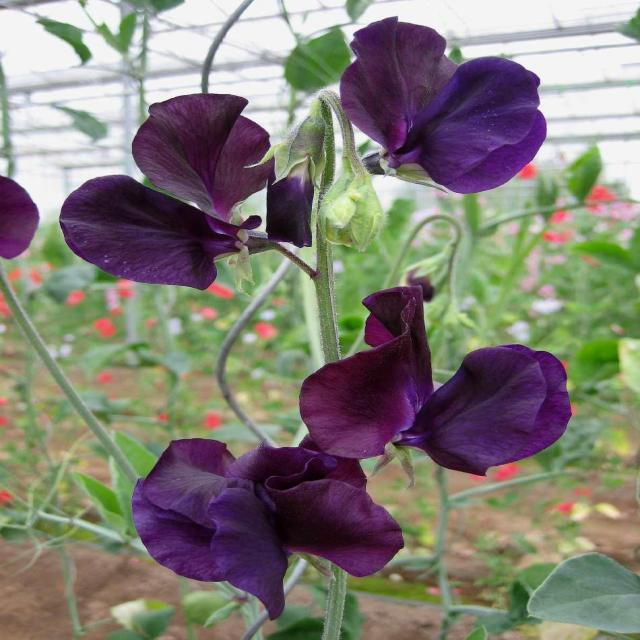organic waste: (302, 267, 578, 491), (128, 427, 417, 613), (334, 16, 561, 187), (61, 167, 287, 292), (127, 88, 302, 235)
